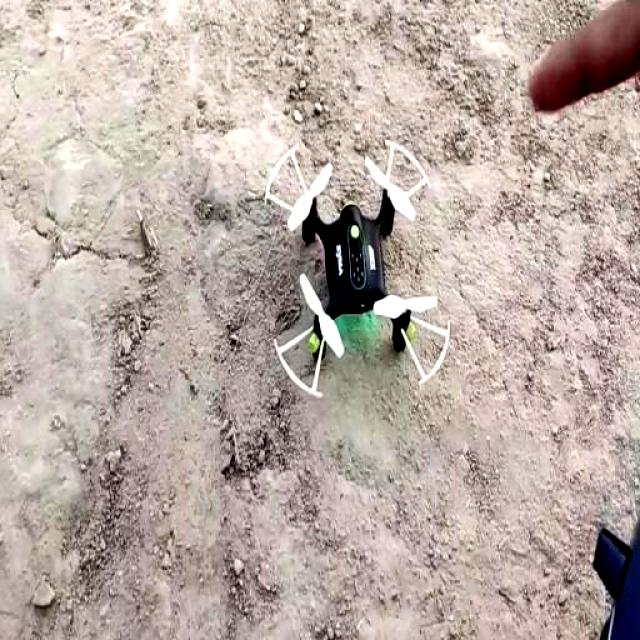bird: (264, 116, 455, 409)
